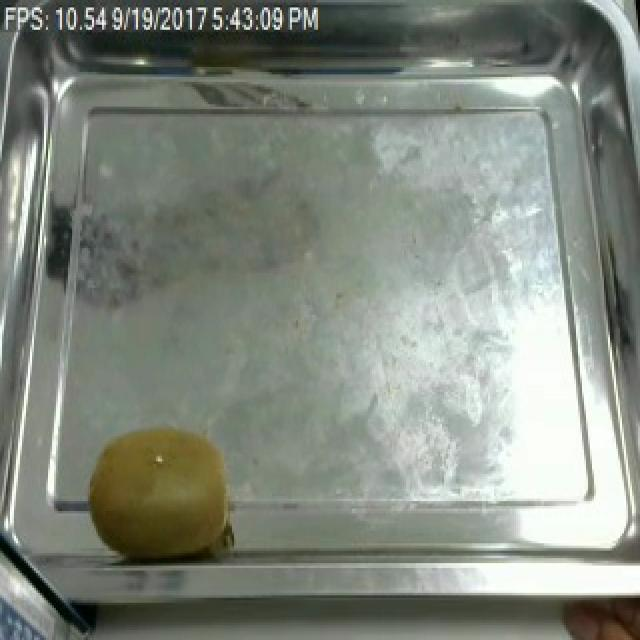Fruit: (80, 416, 244, 560)
